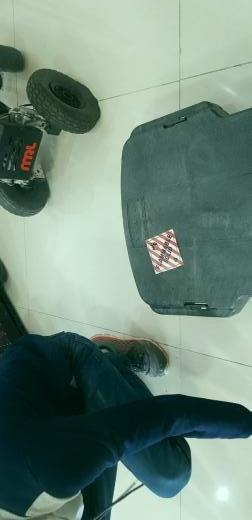flammable-solid: (146, 228, 185, 277)
